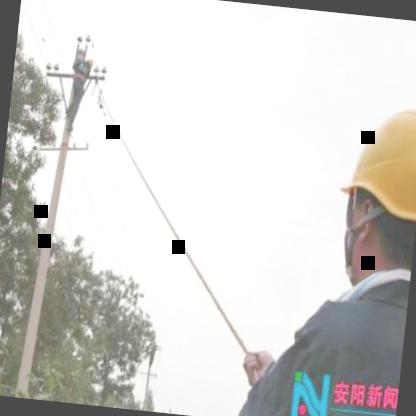helmet: (311, 71, 416, 299)
